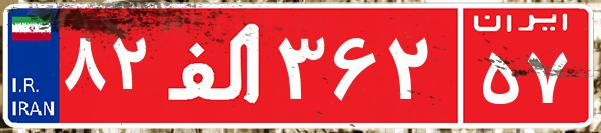2: (385, 28, 445, 110), (110, 28, 158, 105)
3: (273, 28, 330, 110)
5: (475, 38, 525, 113)
6: (330, 28, 385, 110)
7: (525, 38, 570, 115)
8: (57, 26, 110, 107)
الف: (158, 15, 273, 115)
